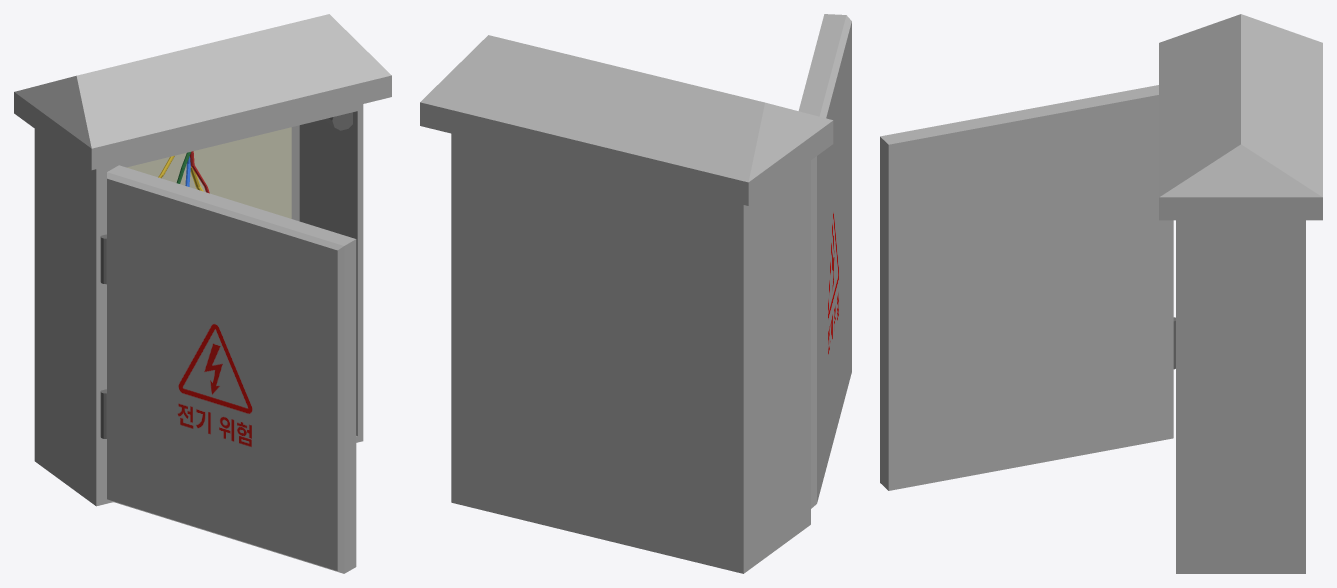
The model's file is switchboard_0528.fbx.
3 renders of one model, left to right at view 1: azimuth 30°, elevation 25°; view 2: azimuth 150°, elevation 25°; view 3: azimuth 270°, elevation 25°, orthographic. The views are drawn at different scales.
Visible parts, largest first — view 1: door, Box001; view 2: Box001, door; view 3: door, Box001.
Boxes of the visible parts, <box> form: door: <box>107,165,356,573</box>; Box001: <box>14,14,391,506</box>; Box001: <box>420,35,833,573</box>; door: <box>798,14,851,508</box>; door: <box>880,85,1173,490</box>; Box001: <box>1159,14,1322,573</box>.
Size of the model in its own units: 64.49 by 83.27 by 78.08.
Materials: 1 (1 with a texture image).
